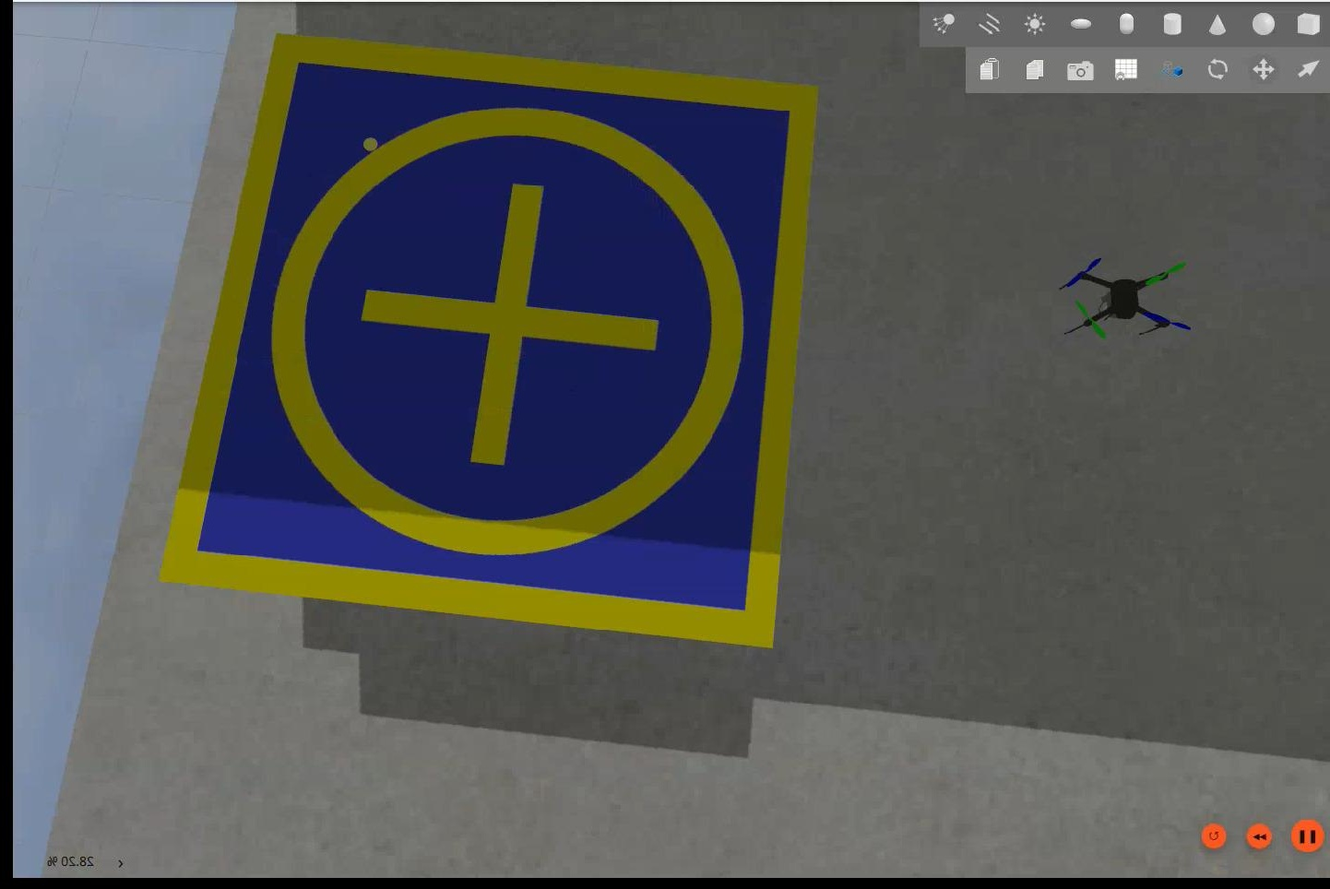small_base: (157, 35, 818, 653)
